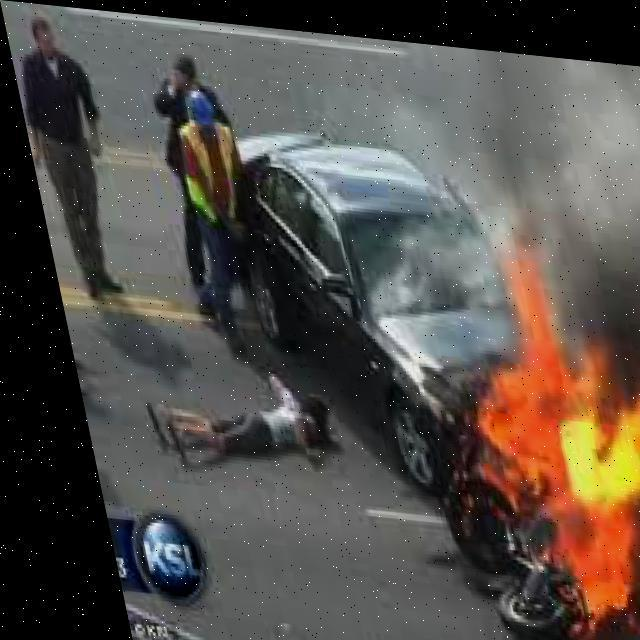Fire: (401, 244, 639, 638)
